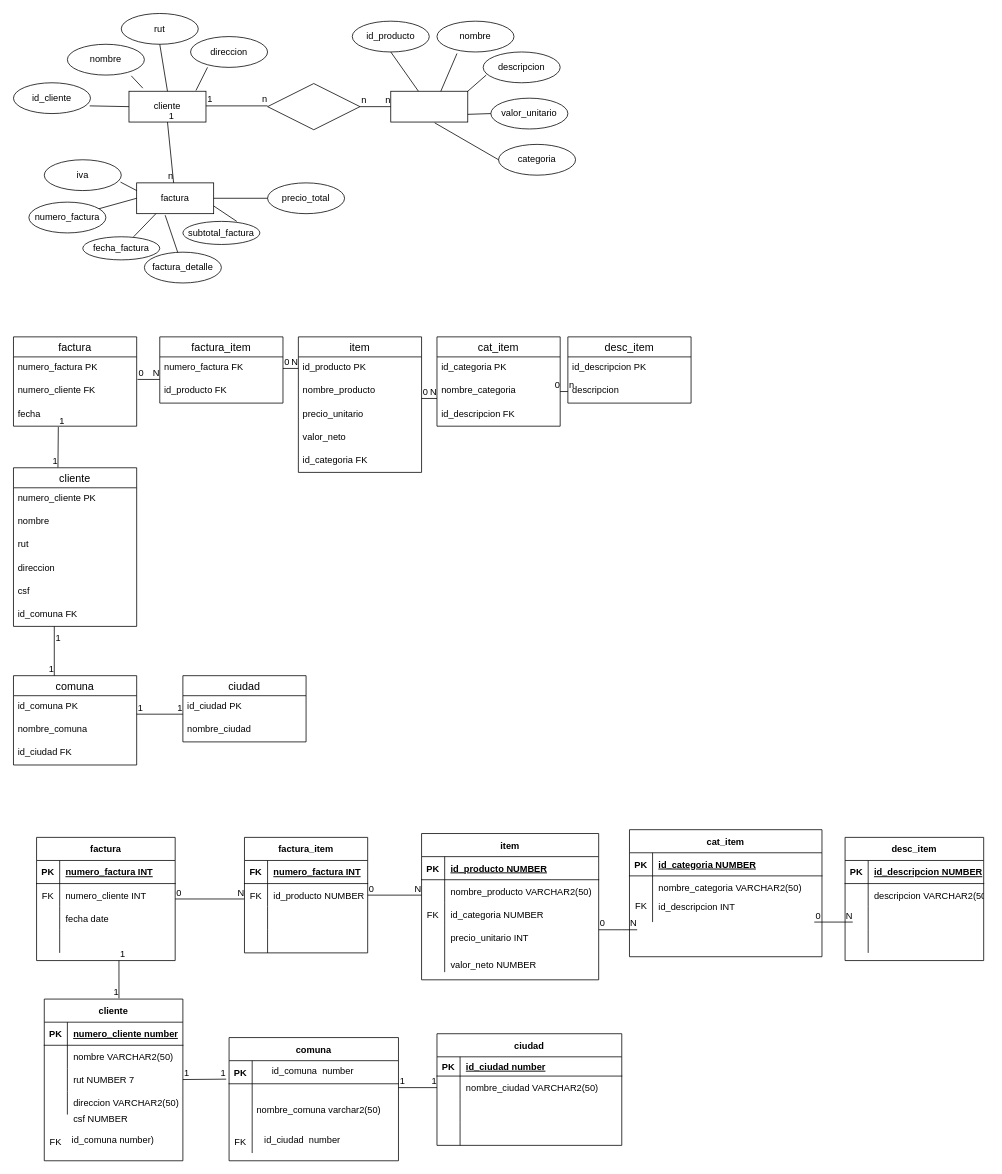
Some shapes in this 1002 by 1174 pixel diagram are drawn without their labels. The shapes that lost their labels are listed below. From the top down, each one's centre as x and y in pixels, then its label:
At (x=313, y=106): "compra/vende".
At (x=429, y=106): "producto".
